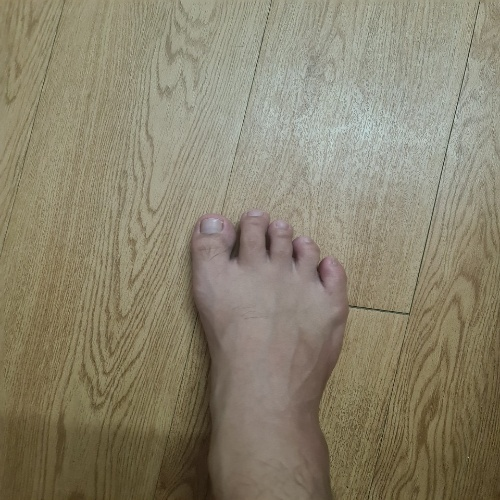3: (192, 214, 236, 263)
Top_Foot: (190, 212, 351, 499)
